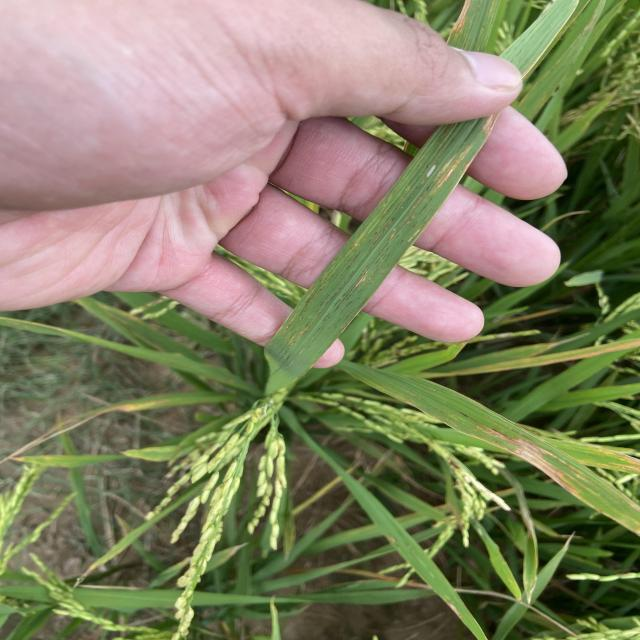Dom soc vi khuan: (411, 155, 455, 212), (428, 144, 474, 197), (386, 212, 412, 242), (417, 159, 438, 190), (372, 218, 395, 245), (286, 323, 309, 345), (354, 269, 370, 287), (282, 314, 296, 334), (385, 184, 399, 203)
